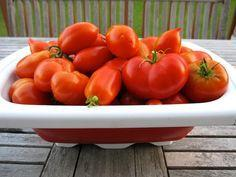healthy-tomato: (122, 50, 191, 98), (182, 52, 231, 104), (85, 60, 123, 107), (58, 23, 106, 56), (9, 74, 59, 105), (35, 59, 76, 94), (51, 72, 90, 107), (107, 25, 141, 60), (149, 29, 183, 59), (16, 52, 50, 80), (29, 38, 59, 54)
